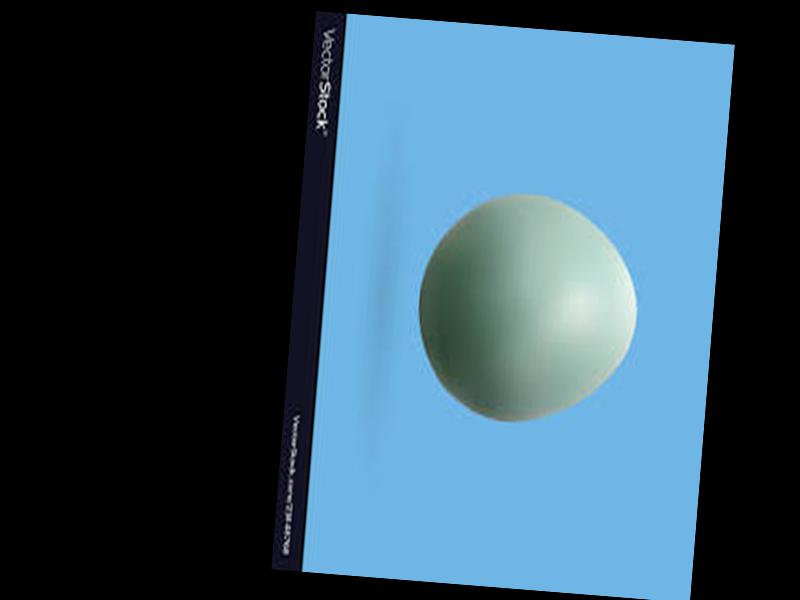Eggs: (411, 187, 645, 434)
